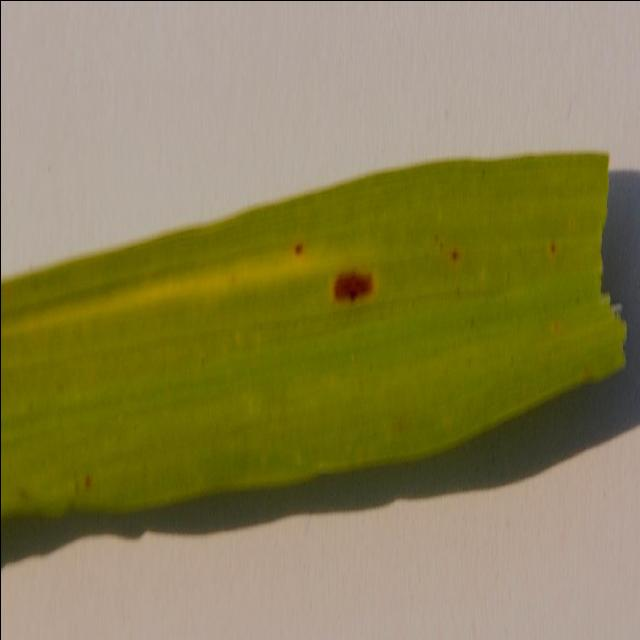Brown_Spot: (317, 252, 384, 304)
